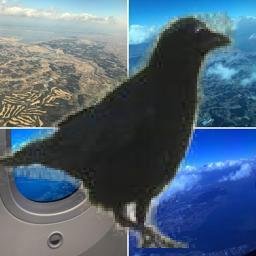Crow: (0, 8, 239, 249)
